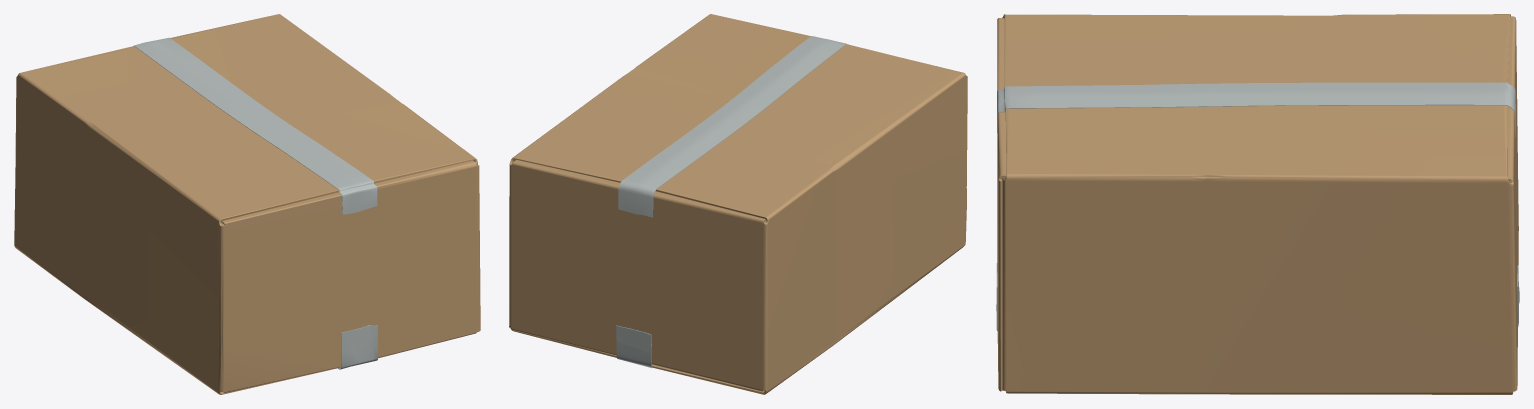
File: box_printer_brown_b07.glb
The picture shows the model from 3 angles, left to right: view 1: azimuth 30°, elevation 25°; view 2: azimuth 150°, elevation 25°; view 3: azimuth 270°, elevation 25°; orthographic projection. The views are drawn at different scales.
Size of the model in its own units: 0.2256 by 0.1485 by 0.308.
